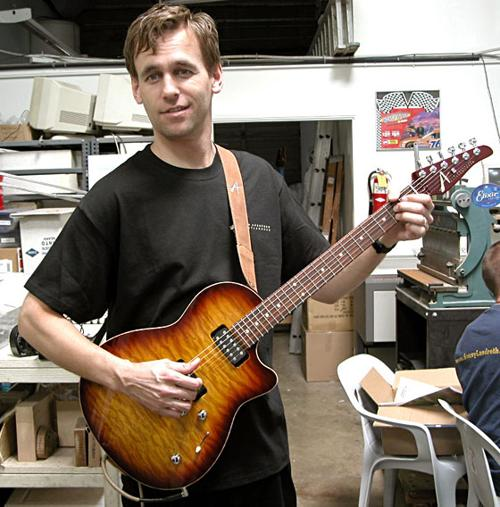person: (17, 4, 437, 503)
